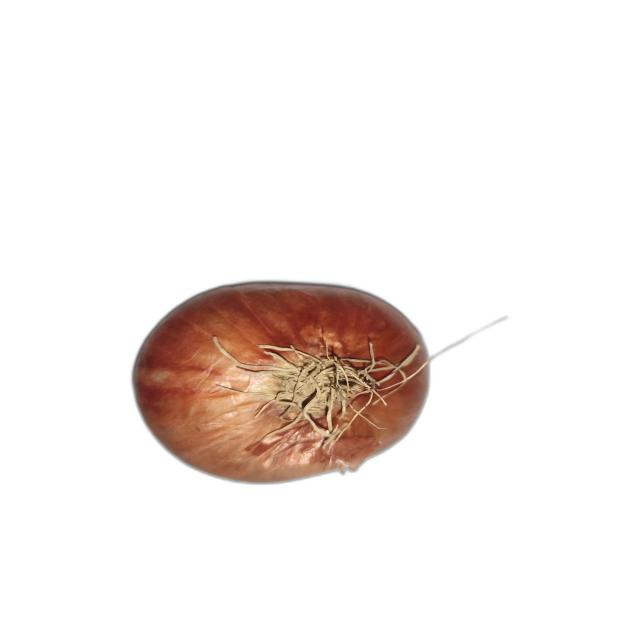onion: (132, 280, 432, 484)
